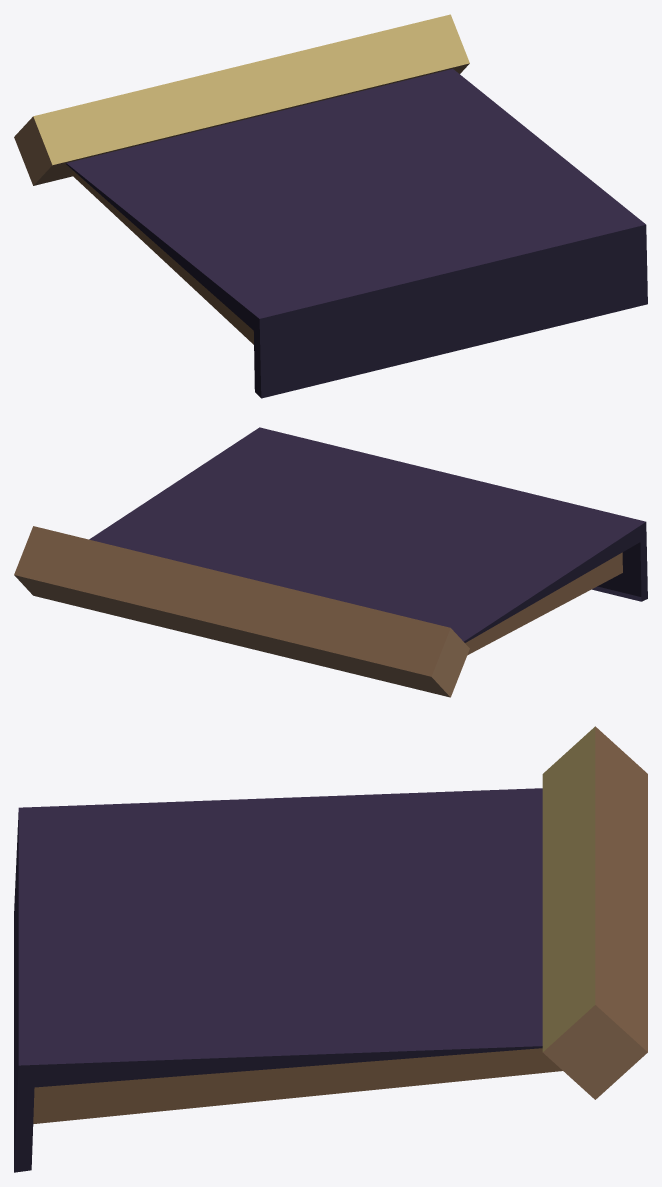
The model's file is TB_D_Bd_Canopy_Sol_F.FBX.
3 views of the same model, one above another, from view 1: azimuth 30°, elevation 25°; view 2: azimuth 150°, elevation 25°; view 3: azimuth 270°, elevation 25° (orthographic). The views are drawn at different scales.
Parts seen in each view (by area): view 1: TB_D_Bd_Canopy_Sol_F; view 2: TB_D_Bd_Canopy_Sol_F; view 3: TB_D_Bd_Canopy_Sol_F.
Part boxes in pixels (box(x1,y1,x2,y2)): TB_D_Bd_Canopy_Sol_F: box(14, 14, 647, 398); TB_D_Bd_Canopy_Sol_F: box(14, 427, 647, 697); TB_D_Bd_Canopy_Sol_F: box(14, 726, 647, 1172).
Bounding box in the file's own units: 1.88 × 0.5606 × 1.81.
